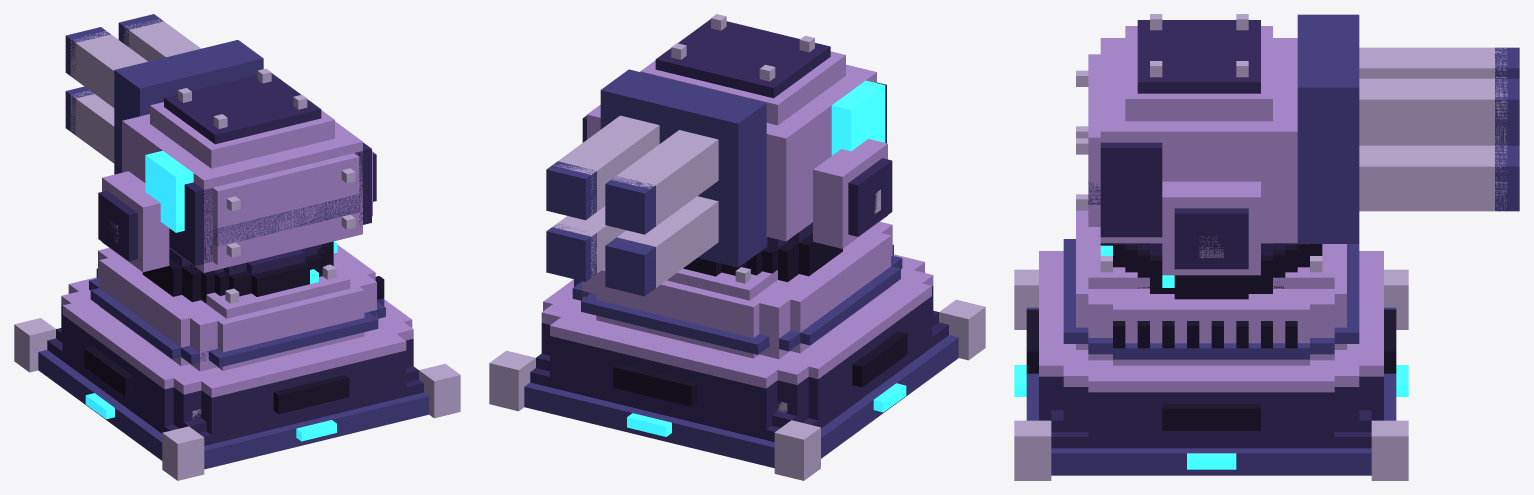
The model's file is point-defense.md.glb.
3 renders of one model, left to right at view 1: azimuth 30°, elevation 25°; view 2: azimuth 150°, elevation 25°; view 3: azimuth 270°, elevation 25°, orthographic. The views are drawn at different scales.
Visible parts, largest first — view 1: point-defense.md; view 2: point-defense.md; view 3: point-defense.md.
Part boxes in pixels (x1,y1,x2,y2): point-defense.md: (14,14,460,480); point-defense.md: (489,14,985,480); point-defense.md: (1014,14,1519,480).
Bounding box in the file's own units: 2 × 2 × 2.56.
